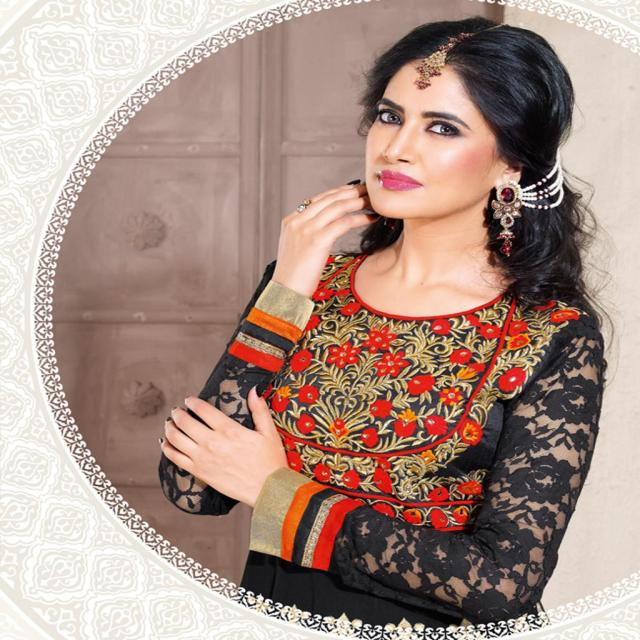Face: (359, 69, 522, 220)
